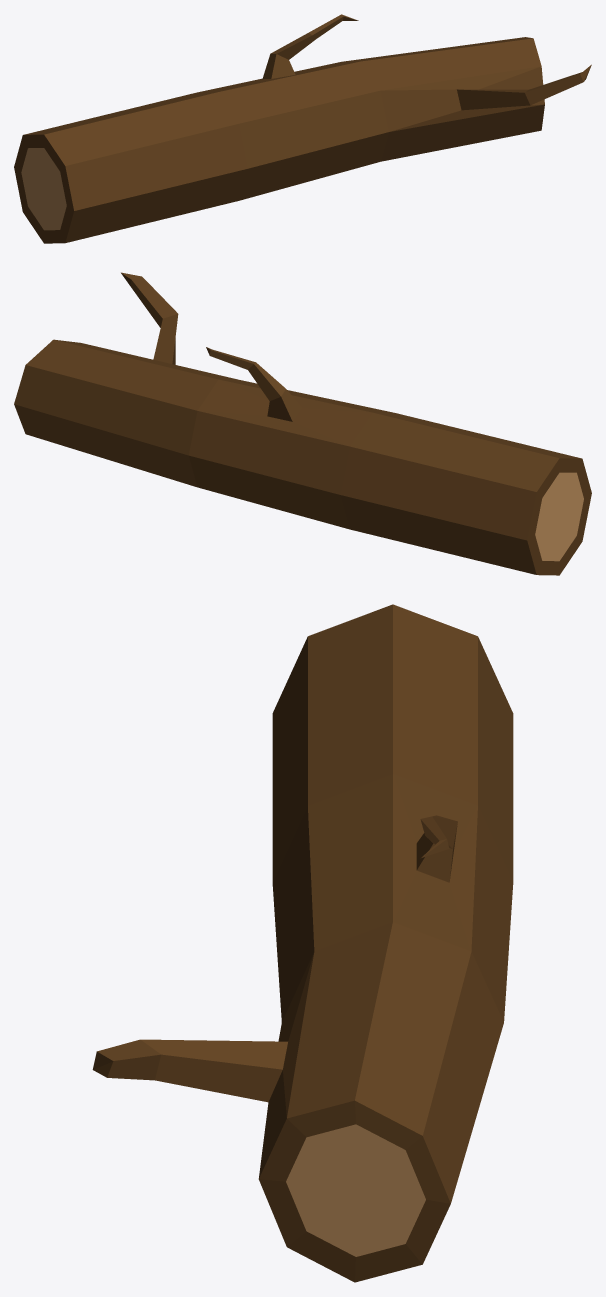
The model's file is arbol_seco_3.fbx.
3 views of the same model, one above another, from view 1: azimuth 30°, elevation 25°; view 2: azimuth 150°, elevation 25°; view 3: azimuth 270°, elevation 25° (orthographic). The views are drawn at different scales.
Visible parts, largest first — view 1: tree_dead2; view 2: tree_dead2; view 3: tree_dead2.
Boxes of the visible parts, x1,y1,x2,y2 form: tree_dead2: [14, 14, 591, 243]; tree_dead2: [14, 272, 591, 575]; tree_dead2: [92, 604, 513, 1282].
Bounding box in the file's own units: 362 × 101 × 134.
